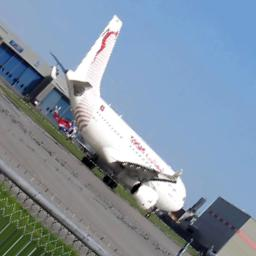Airplane: (58, 21, 189, 214)
